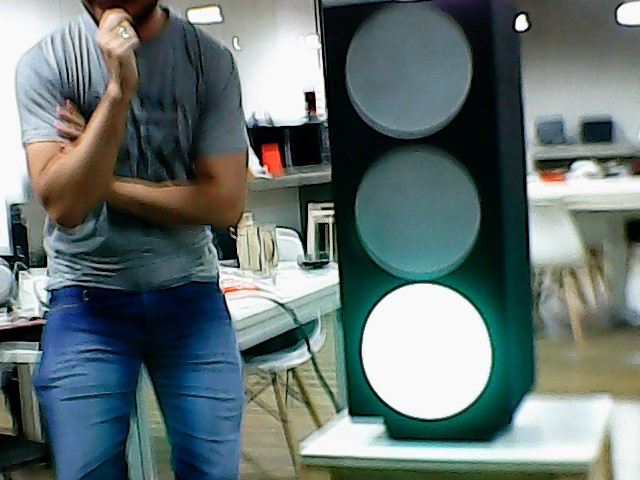verde: (311, 2, 539, 426)
